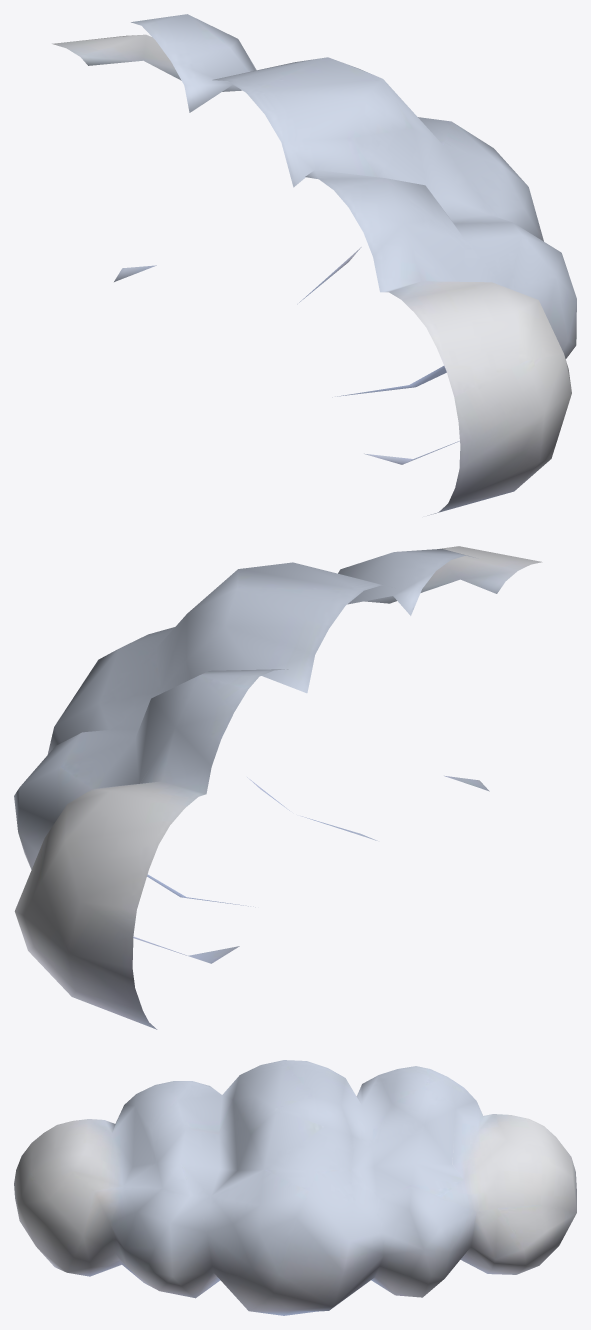
The model's file is cloud_b.glb.
The picture shows the model from 3 angles, top to bottom: view 1: azimuth 30°, elevation 25°; view 2: azimuth 150°, elevation 25°; view 3: azimuth 270°, elevation 25°; orthographic projection. The views are drawn at different scales.
Parts seen in each view (by area): view 1: tripo_node_46247079-29b3-48d1-b301-875c2c72716d; view 2: tripo_node_46247079-29b3-48d1-b301-875c2c72716d; view 3: tripo_node_46247079-29b3-48d1-b301-875c2c72716d.
Part boxes in pixels (left/top/right/bottom): tripo_node_46247079-29b3-48d1-b301-875c2c72716d: left=52, top=14, right=576, bottom=515; tripo_node_46247079-29b3-48d1-b301-875c2c72716d: left=14, top=546, right=542, bottom=1029; tripo_node_46247079-29b3-48d1-b301-875c2c72716d: left=14, top=1060, right=576, bottom=1315.
Size of the model in its own units: 0.3574 by 0.4004 by 0.998.
1 material, 1 textured.
